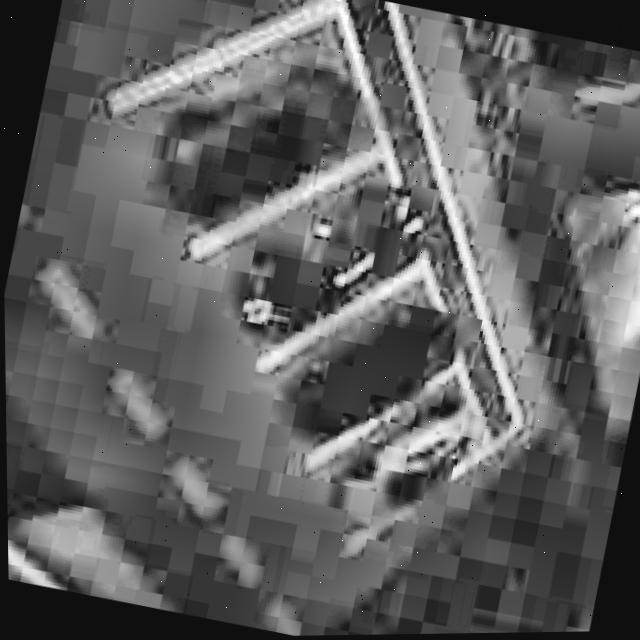car: (130, 31, 385, 271), (205, 150, 454, 385), (261, 265, 485, 487), (304, 367, 506, 566)
